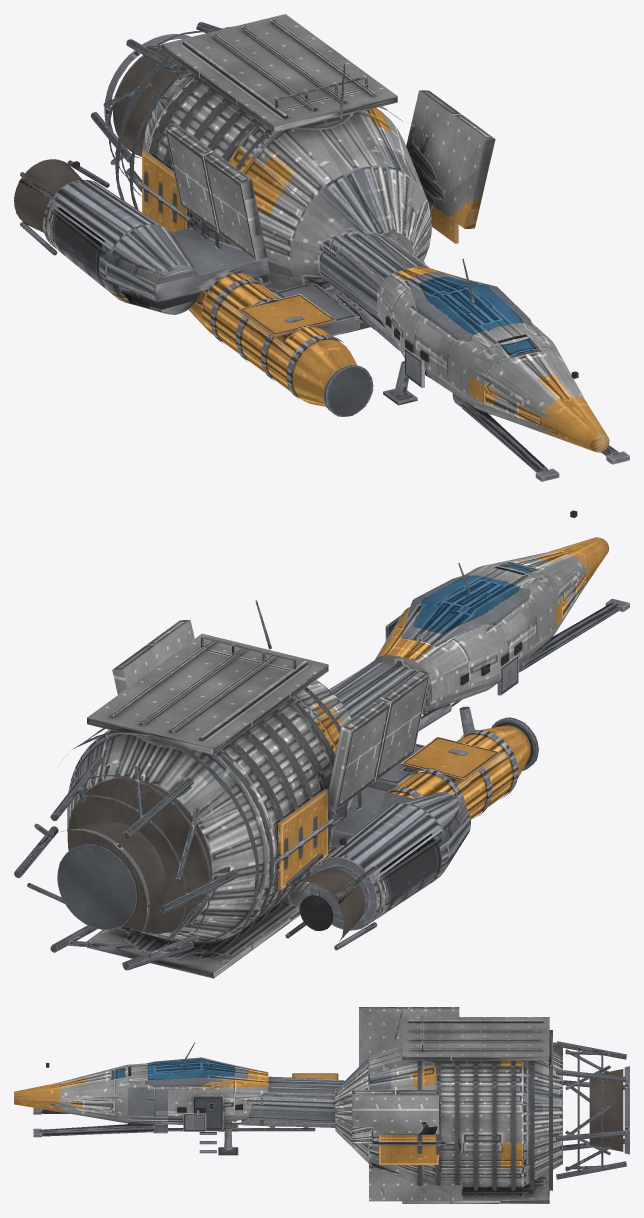
The model's file is sd_npc_raider.glb.
3 views of the same model, one above another, from view 1: azimuth 30°, elevation 25°; view 2: azimuth 150°, elevation 25°; view 3: azimuth 270°, elevation 25° (orthographic). The views are drawn at different scales.
Parts seen in each view (by area): view 1: LOD0_body, LOD1_body; view 2: LOD0_body, LOD1_body; view 3: LOD0_body, LOD1_body.
Part boxes in pixels (left/top/right/bottom): LOD0_body: left=14, top=14, right=629, bottom=481; LOD1_body: left=14, top=14, right=629, bottom=481; LOD0_body: left=14, top=510, right=629, bottom=978; LOD1_body: left=14, top=511, right=629, bottom=978; LOD0_body: left=14, top=1007, right=629, bottom=1203; LOD1_body: left=14, top=1011, right=629, bottom=1203.
Size of the model in its own units: 0.4017 by 0.3345 by 1.
Materials: 1 (1 with a texture image).
